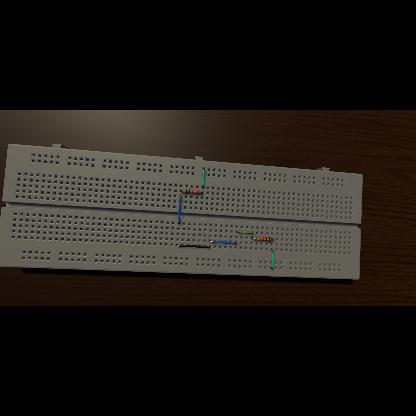breadboard: (0, 144, 362, 280)
resistor: (257, 236, 271, 242), (184, 190, 200, 194)
wire: (178, 244, 210, 248), (178, 196, 182, 224), (209, 240, 237, 244), (270, 249, 274, 269), (236, 232, 254, 235), (202, 169, 204, 189), (252, 237, 257, 239), (200, 192, 202, 194), (271, 238, 273, 240), (180, 192, 184, 192)
